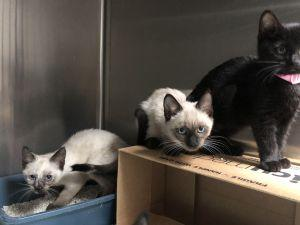siamese: (159, 90, 220, 157)
